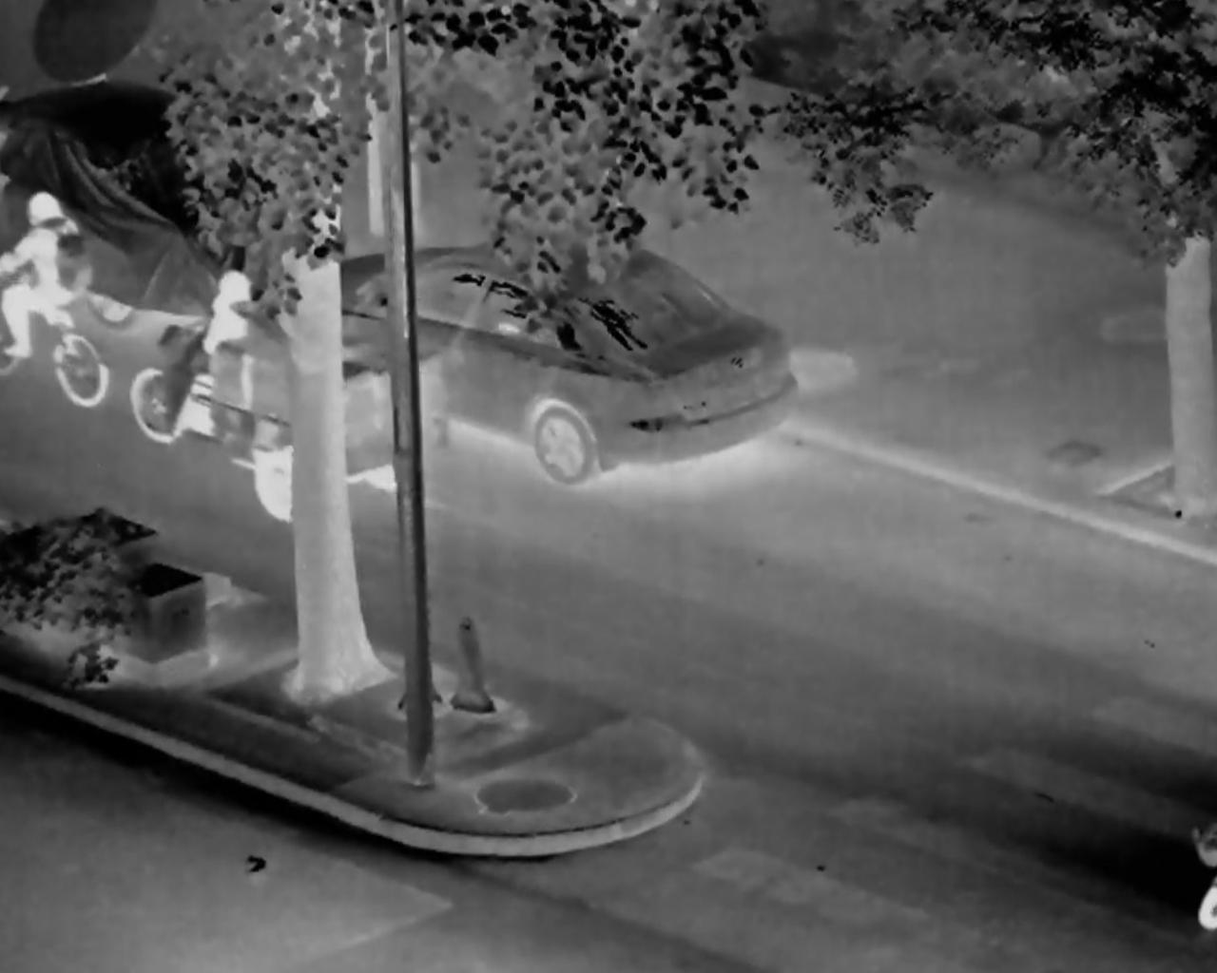person: (175, 270, 267, 421)
